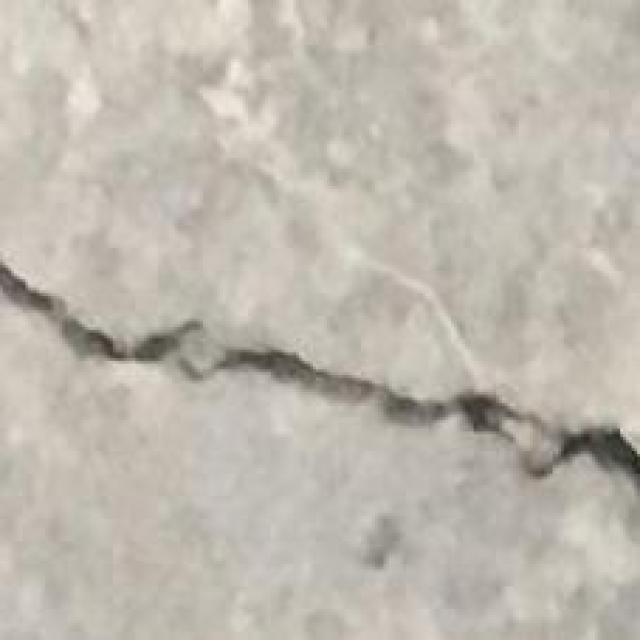Crack: (1, 243, 640, 526)
